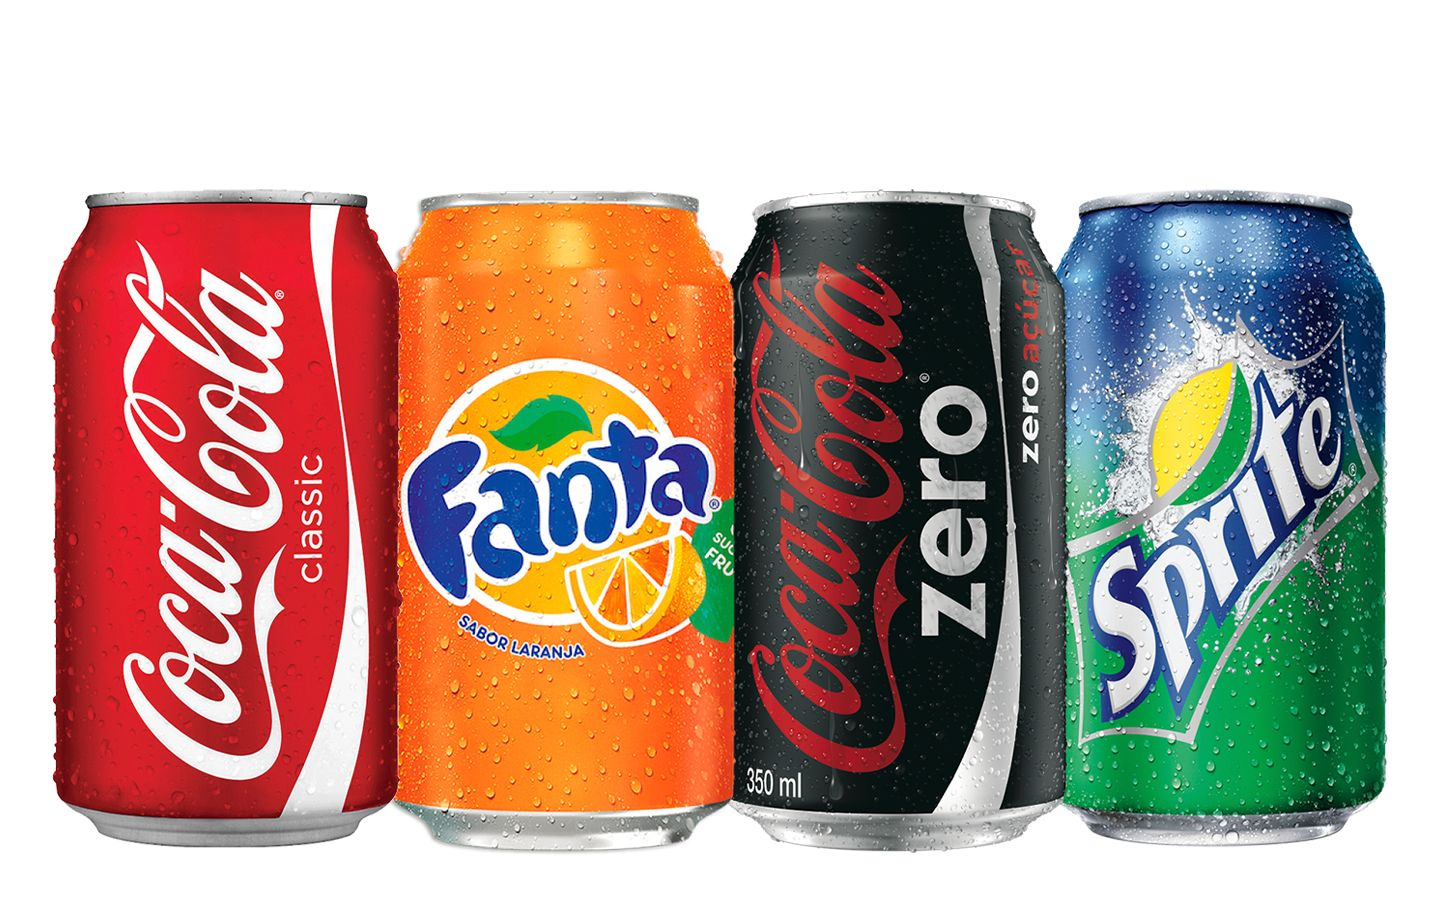can: (48, 186, 1395, 849)
